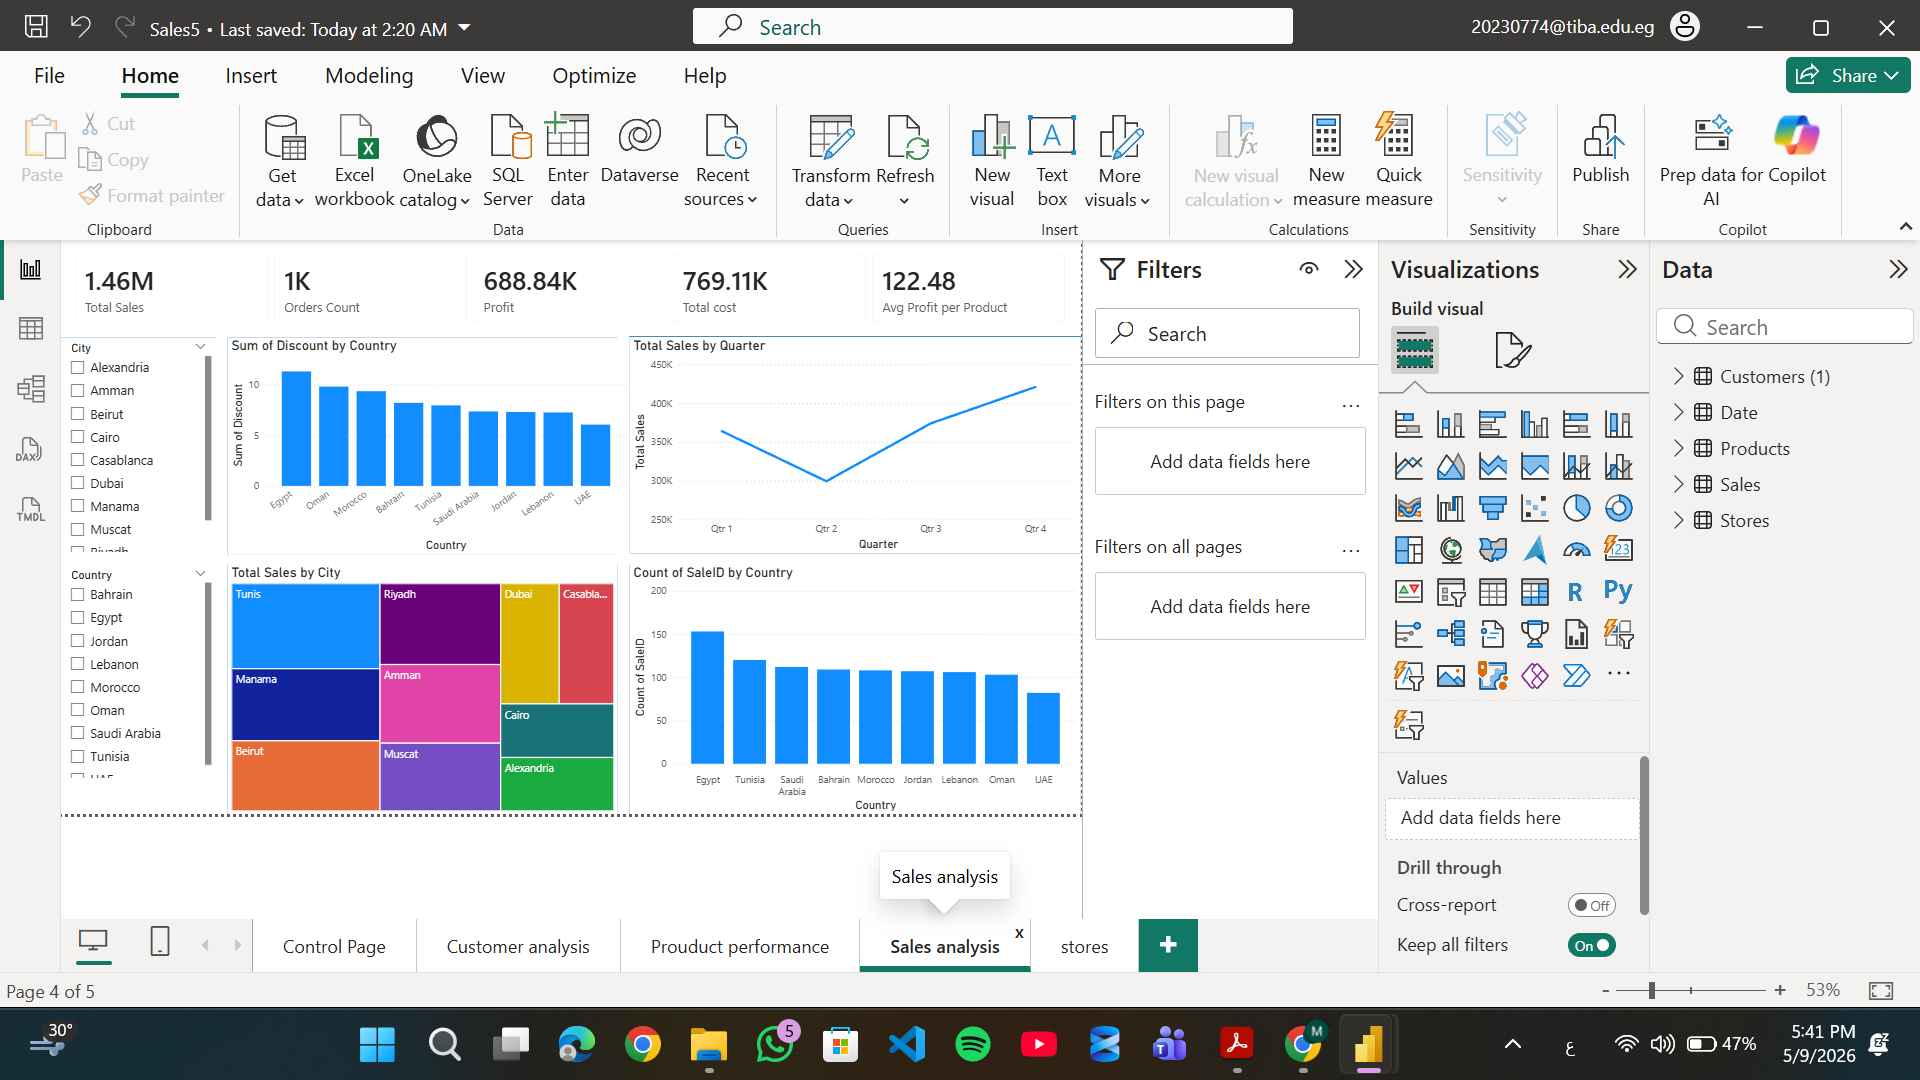

Layout of this report page (visuals, bound fields, positions):
{"tool":"powerbi","page":{"name":"Sales analysis","canvas":[1280,720],"ordinal":3},"visuals":[{"type":"cardVisual","fields":{"Data":["Sales.Total Sales","Sales.Orders Count","Products.Profit","Customers (1).Total cost","Customers (1).Avg Sales"]},"box":[0,0,1279.4,120.4],"z":0},{"type":"shape","box":[713.1,120.4,566.3,272.8],"z":1000},{"type":"shape","box":[713.1,406.4,566.3,314.2],"z":2000},{"type":"shape","box":[208.8,406.4,489.2,314.2],"z":3000},{"type":"shape","box":[208.8,122.3,489.2,272.8],"z":4000},{"type":"lineChart","fields":{"Y":["Sales.Total Sales"],"Category":["Date.Date.Variation.Date Hierarchy.Quarter"]},"box":[713.1,122.3,566.3,270.9],"z":5000},{"type":"clusteredColumnChart","fields":{"Category":["Customers (1).Country"],"Y":["CountNonNull(Sales.SaleID)"]},"box":[713.1,406.4,566.3,314.2],"z":6000},{"type":"treemap","fields":{"Values":["Sales.Total Sales"],"Group":["Customers (1).City"]},"box":[208.8,406.4,489.2,314.2],"z":7000},{"type":"clusteredColumnChart","fields":{"Y":["Sum(Sales.Discount)"],"Category":["Customers (1).Country"]},"box":[208.8,122.3,504.2,272.8],"z":8000},{"type":"shape","box":[0,122.3,193.8,272.8],"z":9000},{"type":"shape","box":[0,406.4,193.8,272.8],"z":10000},{"type":"slicer","fields":{"Values":["Customers (1).Country"]},"box":[0,406.4,193.8,272.8],"z":11000},{"type":"slicer","fields":{"Values":["Customers (1).City"]},"box":[0,122.3,193.8,272.8],"z":12000}]}

Visuals, with their boxes on the page's 1280x720 design canvas (x1, y1, x2, y2). These are canvas units, not pixel positions in the 1920x1080 screenshot, which may show the page scaled, cropped or inside an application window:
cardVisual - Sales.Total Sales x Sales.Orders Count: crop(0, 0, 1279, 120)
shape: crop(713, 120, 1279, 393)
shape: crop(713, 406, 1279, 721)
shape: crop(209, 406, 698, 721)
shape: crop(209, 122, 698, 395)
lineChart - Sales.Total Sales x Date.Date.Variation.Date Hierarchy.Quarter: crop(713, 122, 1279, 393)
clusteredColumnChart - Customers (1).Country x CountNonNull(Sales.SaleID): crop(713, 406, 1279, 721)
treemap - Sales.Total Sales x Customers (1).City: crop(209, 406, 698, 721)
clusteredColumnChart - Sum(Sales.Discount) x Customers (1).Country: crop(209, 122, 713, 395)
shape: crop(0, 122, 194, 395)
shape: crop(0, 406, 194, 679)
slicer - Customers (1).Country: crop(0, 406, 194, 679)
slicer - Customers (1).City: crop(0, 122, 194, 395)
